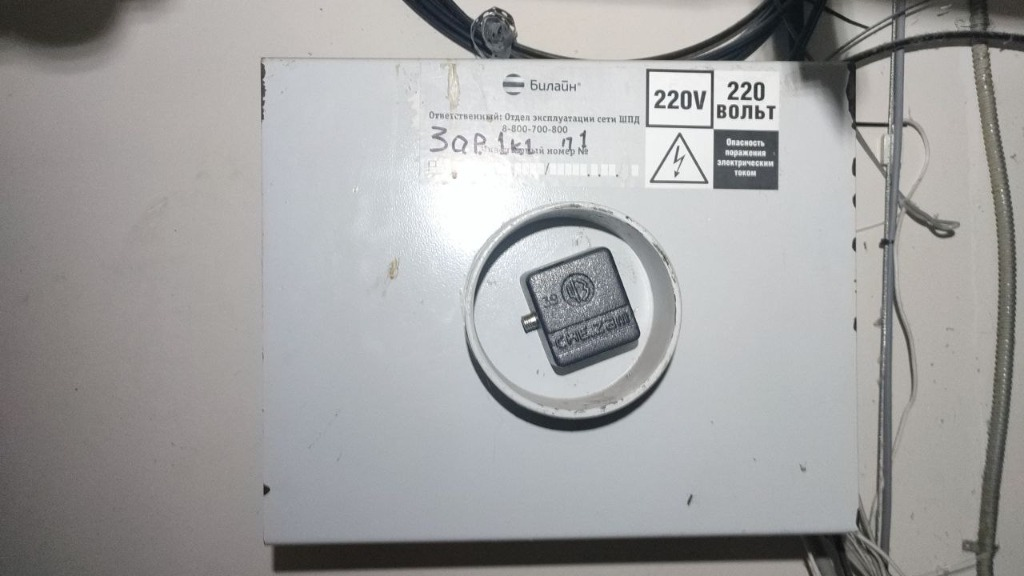shta-3: (255, 57, 862, 542)
